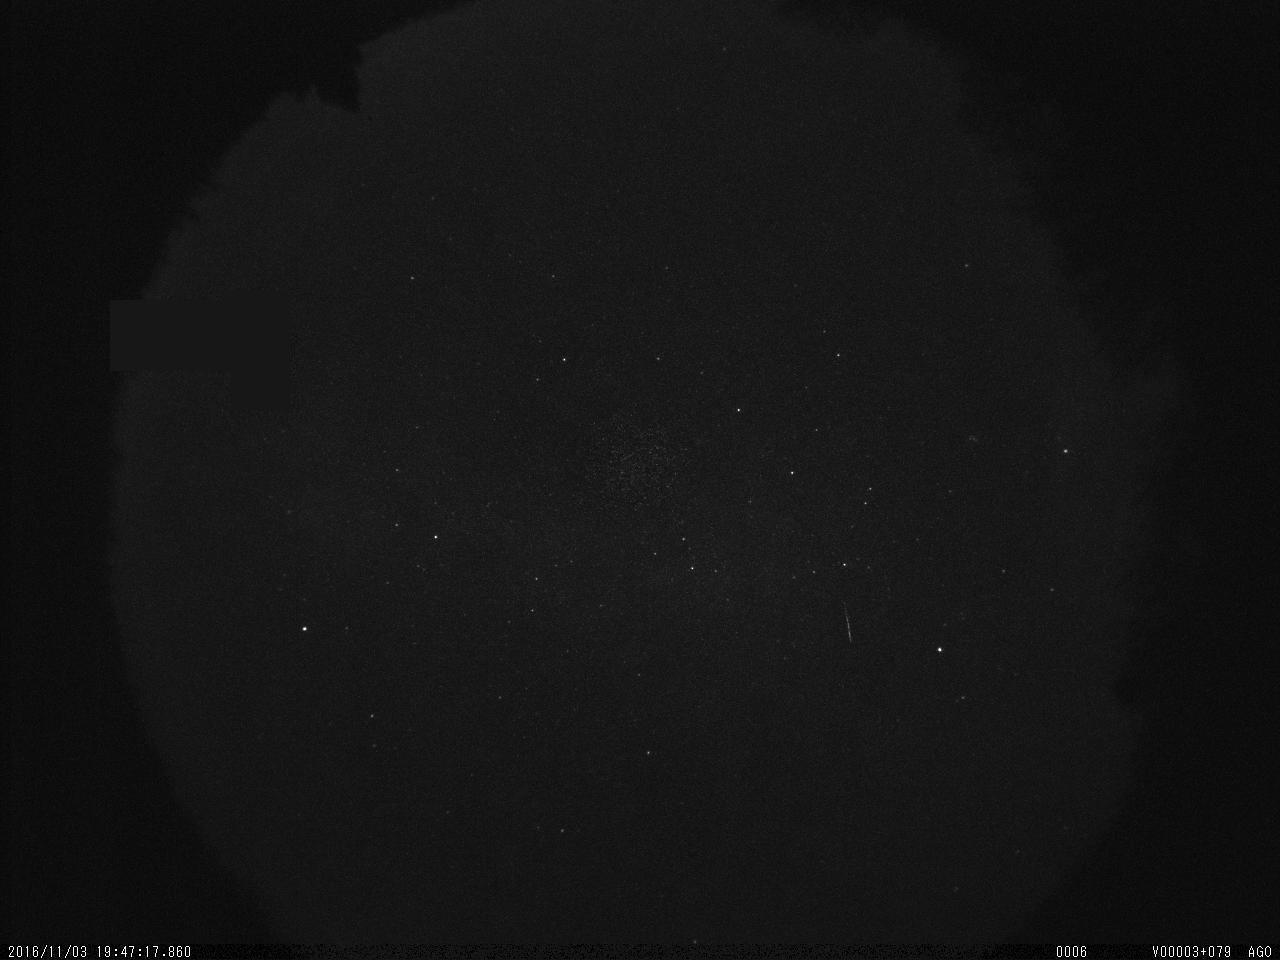Meteor: (840, 600, 857, 648)
